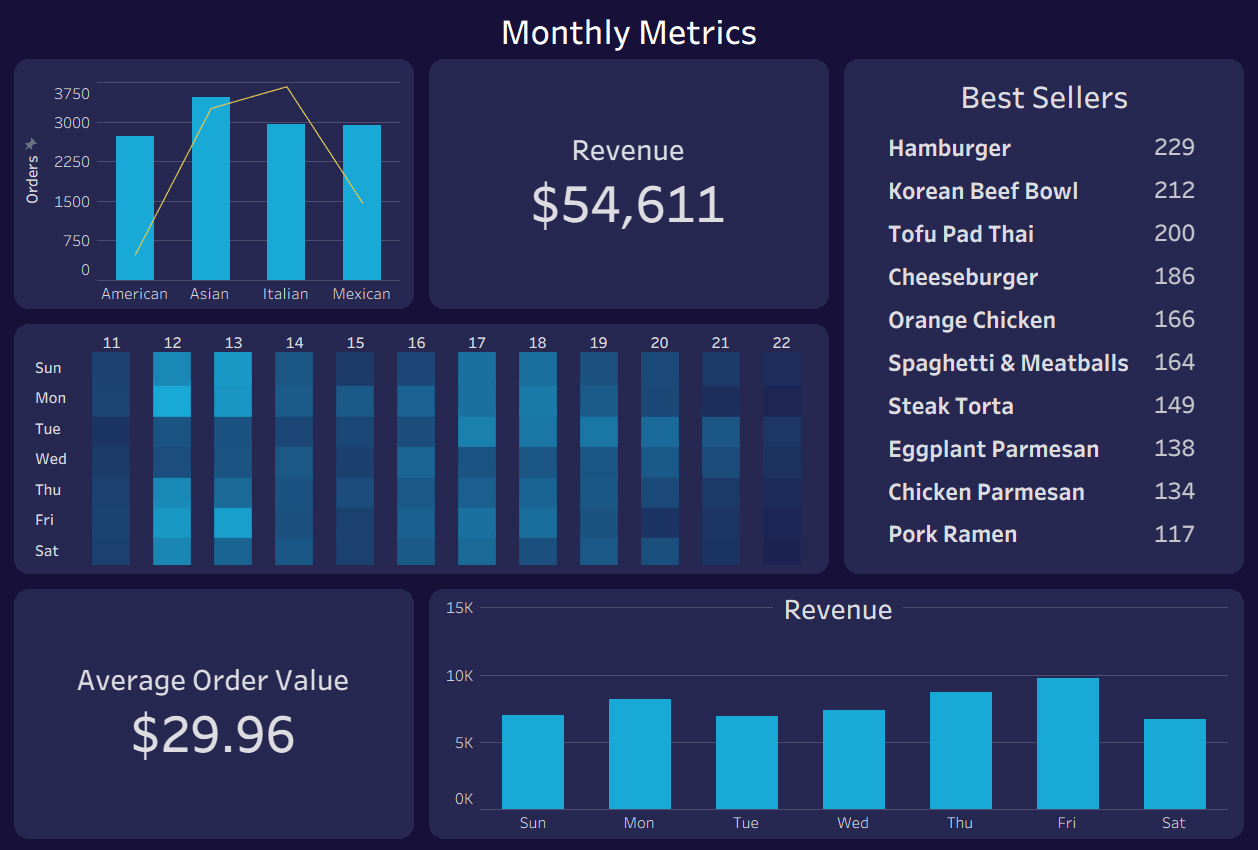

What the dashboard file says about the page in this screenshot:
{"tool":"tableau","page":{"name":"Dashboard","canvas":[1260,895],"ordinal":0},"visuals":[{"type":"image","param":"C:/Users/ejlon/Downloads/tableau_background_1260x895.png","box":[0,0,1260,895]},{"type":"text","box":[480,0,300,62]},{"type":"legend","title":"Categorys","param":"[federated.0tuw35i0r4rdeu0zygi7c1413hlx].[:Measure Names]","box":[1092,8,160,72]},{"type":"worksheet","title":"Card","mark":"Text","box":[15,60,400,250]},{"type":"worksheet","title":"Card2","mark":"Text","box":[430,60,400,250]},{"type":"worksheet","title":"Card3","mark":"Text","box":[845,60,400,515]},{"type":"worksheet","title":"Categorys","mark":"Automatic","rows":["order_id","item_revenue"],"cols":["category"],"box":[22,63,384,243]},{"type":"worksheet","title":"Monthly Revenue","mark":"Automatic","box":[437,63,384,243]},{"type":"text","box":[958,76,174,41]},{"type":"worksheet","title":"Monthly Best Sellers","mark":"Text","rows":["item_name"],"box":[883,126,324,430]},{"type":"worksheet","title":"Card4","mark":"Text","box":[15,325,815,250]},{"type":"worksheet","title":"Hourly Orders","mark":"Shape","rows":["weekday"],"cols":["order_time"],"box":[30,333,783,233]},{"type":"worksheet","title":"Card5","mark":"Text","box":[15,590,400,250]},{"type":"worksheet","title":"Card6","mark":"Text","box":[430,590,815,250]},{"type":"worksheet","title":"Average Order Value","mark":"Automatic","box":[22,593,384,243]},{"type":"worksheet","title":"Weekly Revenue","mark":"Bar","rows":["item_revenue"],"cols":["weekday"],"box":[446,593,783,243]},{"type":"text","box":[774,594,130,31]}]}

Visuals, with their boxes on the page's 1260x895 design canvas (x1, y1, x2, y2). These are canvas units, not pixel positions in the 1258x850 screenshot, which may show the page scaled, cropped or inside an application window:
image: left=0, top=0, right=1260, bottom=895
text: left=480, top=0, right=780, bottom=62
"Categorys" legend: left=1092, top=8, right=1252, bottom=80
"Card" worksheet (Text marks): left=15, top=60, right=415, bottom=310
"Card2" worksheet (Text marks): left=430, top=60, right=830, bottom=310
"Card3" worksheet (Text marks): left=845, top=60, right=1245, bottom=575
"Categorys" worksheet: left=22, top=63, right=406, bottom=306
"Monthly Revenue" worksheet: left=437, top=63, right=821, bottom=306
text: left=958, top=76, right=1132, bottom=117
"Monthly Best Sellers" worksheet (Text marks): left=883, top=126, right=1207, bottom=556
"Card4" worksheet (Text marks): left=15, top=325, right=830, bottom=575
"Hourly Orders" worksheet (Shape marks): left=30, top=333, right=813, bottom=566
"Card5" worksheet (Text marks): left=15, top=590, right=415, bottom=840
"Card6" worksheet (Text marks): left=430, top=590, right=1245, bottom=840
"Average Order Value" worksheet: left=22, top=593, right=406, bottom=836
"Weekly Revenue" worksheet (Bar marks): left=446, top=593, right=1229, bottom=836
text: left=774, top=594, right=904, bottom=625
